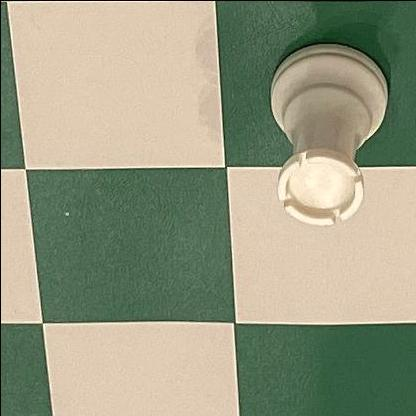white-rook: (265, 37, 389, 228)
